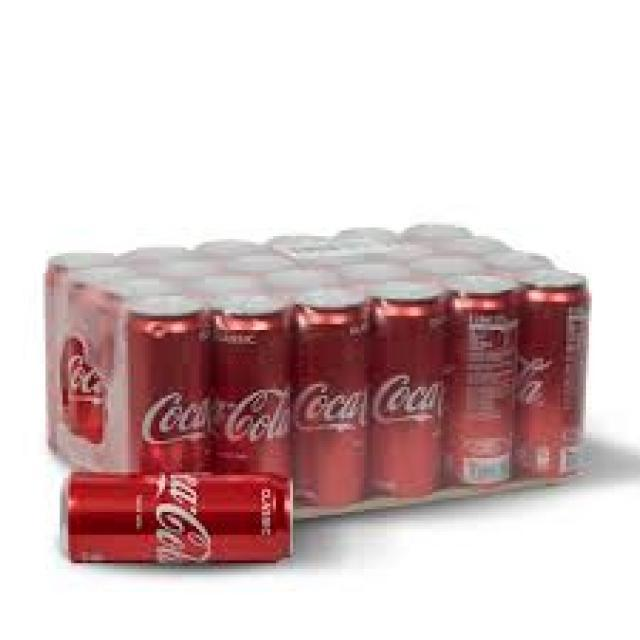coca-cola: (52, 466, 298, 570), (294, 298, 371, 514), (369, 290, 445, 500), (515, 278, 591, 482), (448, 284, 518, 488), (132, 302, 212, 470), (214, 304, 290, 476)
